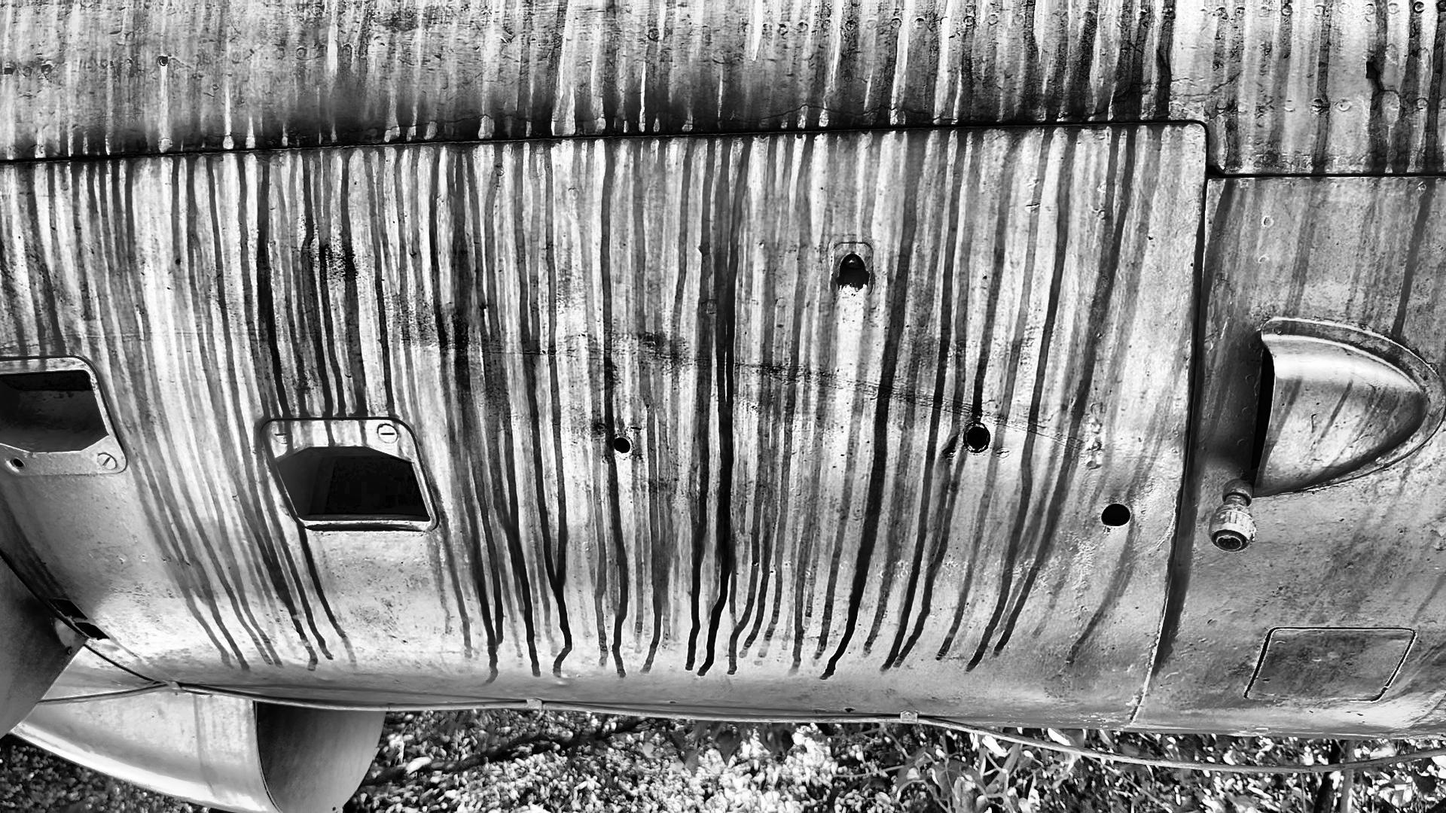dent: (51, 617, 77, 649)
missing-head: (9, 457, 26, 472)
